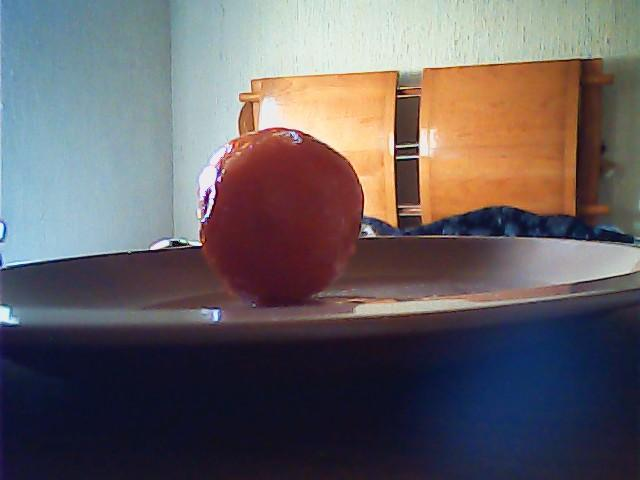maduro: (192, 124, 368, 305)
